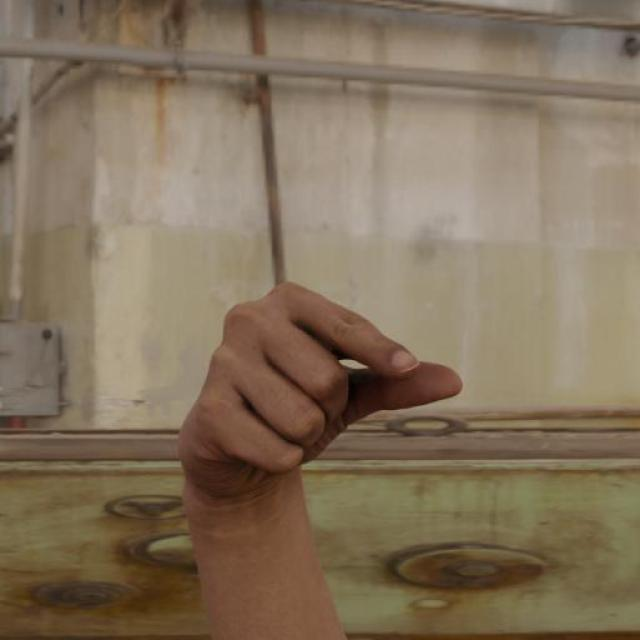G: (173, 278, 466, 502)
